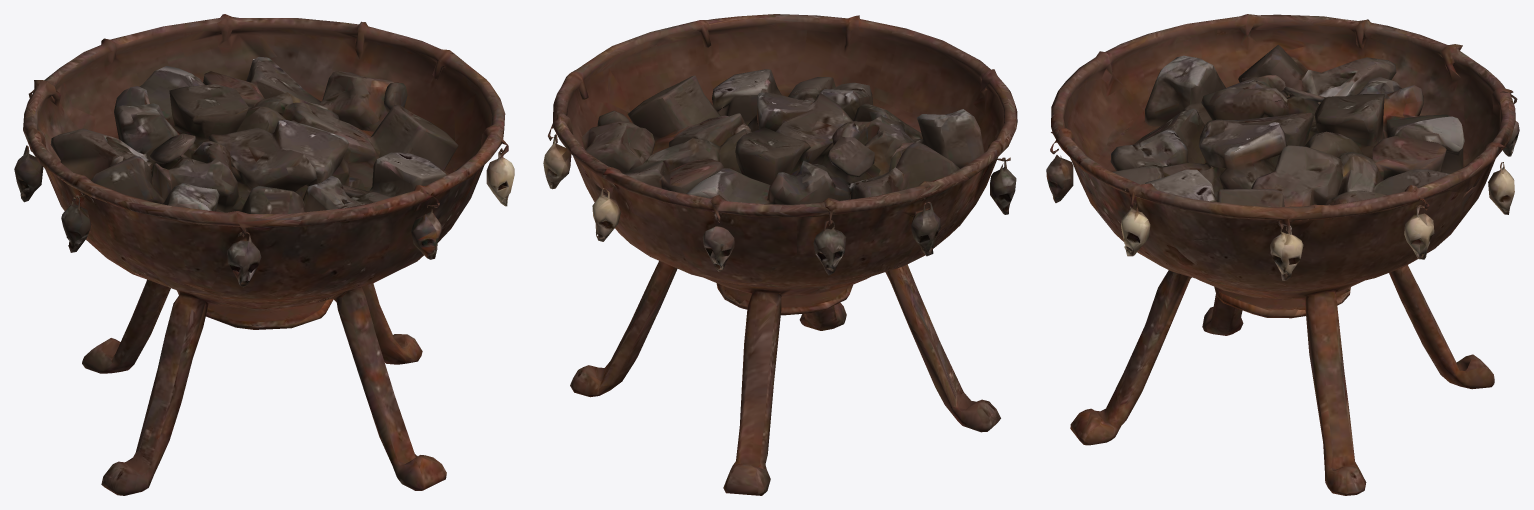
The model's file is brazier.glb.
3 renders of one model, left to right at view 1: azimuth 30°, elevation 25°; view 2: azimuth 150°, elevation 25°; view 3: azimuth 270°, elevation 25°, orthographic. The views are drawn at different scales.
Visible parts, largest first — view 1: brazier; view 2: brazier; view 3: brazier.
Boxes of the visible parts, x1=… form: brazier: x1=14, y1=14, x2=514, y2=495; brazier: x1=543, y1=14, x2=1017, y2=495; brazier: x1=1046, y1=14, x2=1519, y2=495.
Size of the model in its own units: 1.47 by 1 by 1.42.
1 material, 1 textured.
